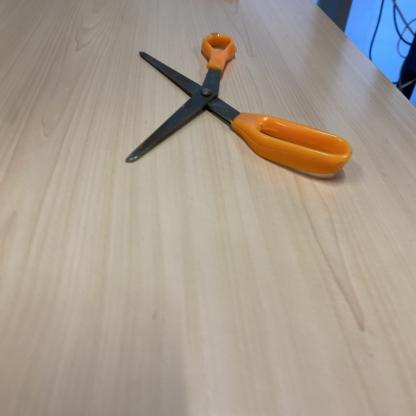scissors: (126, 28, 354, 185)
